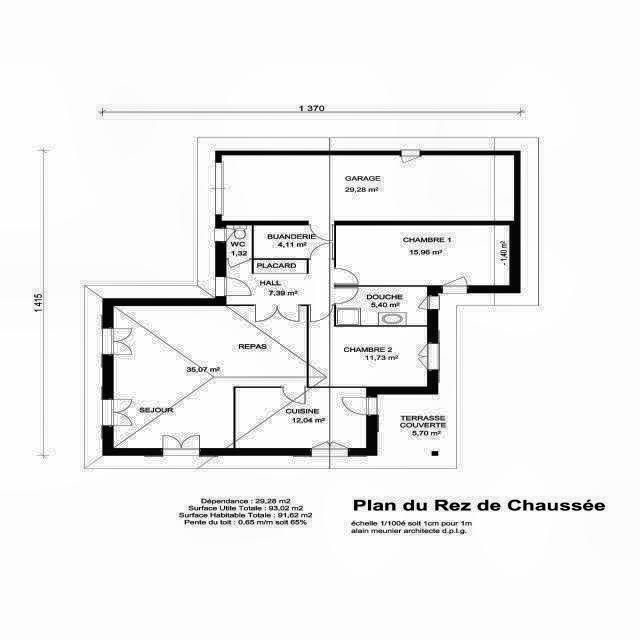room: (114, 306, 307, 448), (222, 155, 514, 221), (336, 225, 509, 285), (308, 306, 427, 387), (235, 388, 366, 448), (226, 260, 334, 305), (336, 287, 427, 325), (254, 225, 334, 258), (226, 225, 252, 258)
